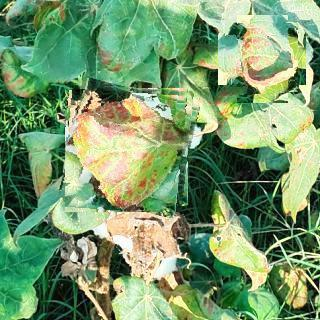blight: (65, 83, 194, 212), (226, 23, 298, 95)
